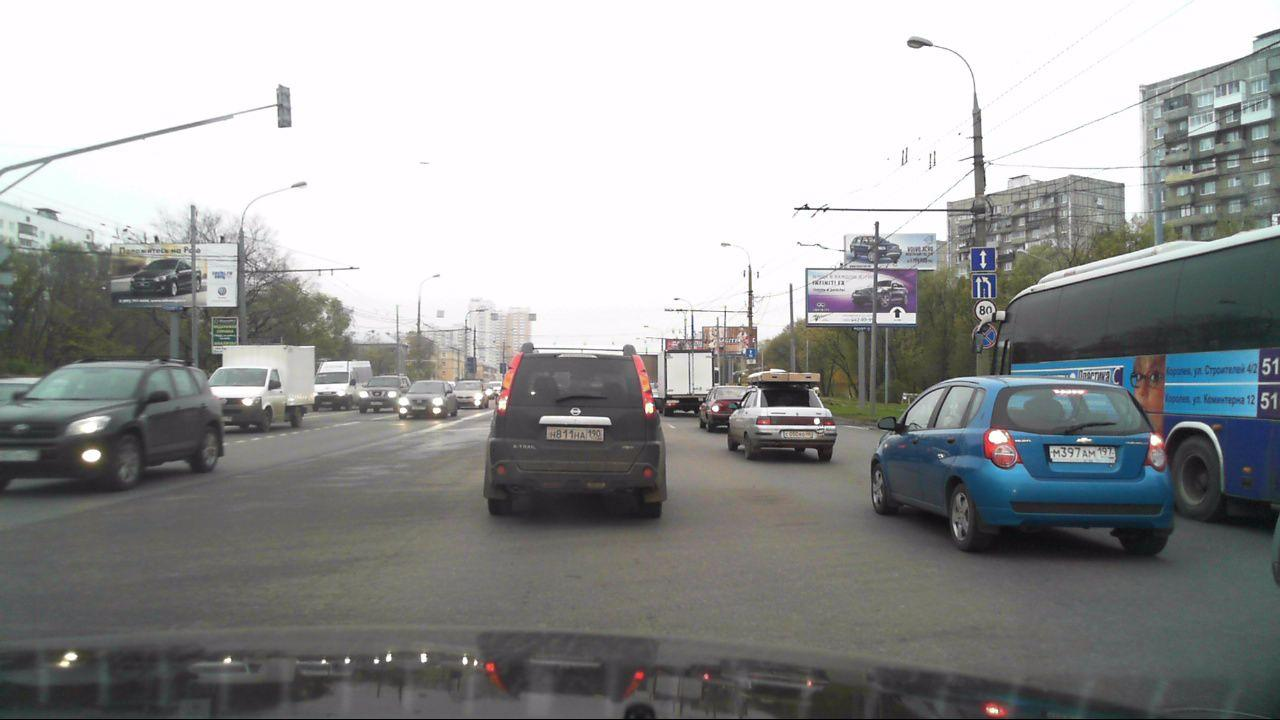3_24: (973, 299, 998, 321)
3_27: (972, 323, 998, 349)
5_14_1: (746, 348, 757, 358)
5_15_5: (970, 273, 999, 300)
5_8: (969, 246, 996, 272)
8_5_2: (745, 358, 756, 365)
